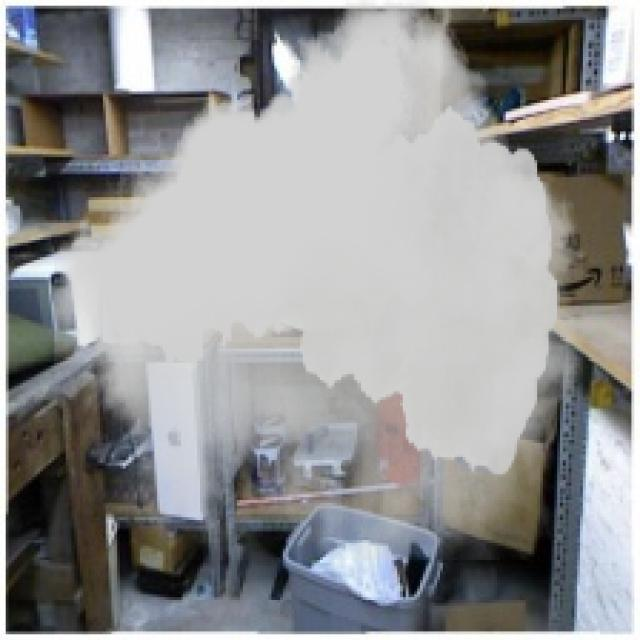Smoke: (54, 0, 583, 560)
